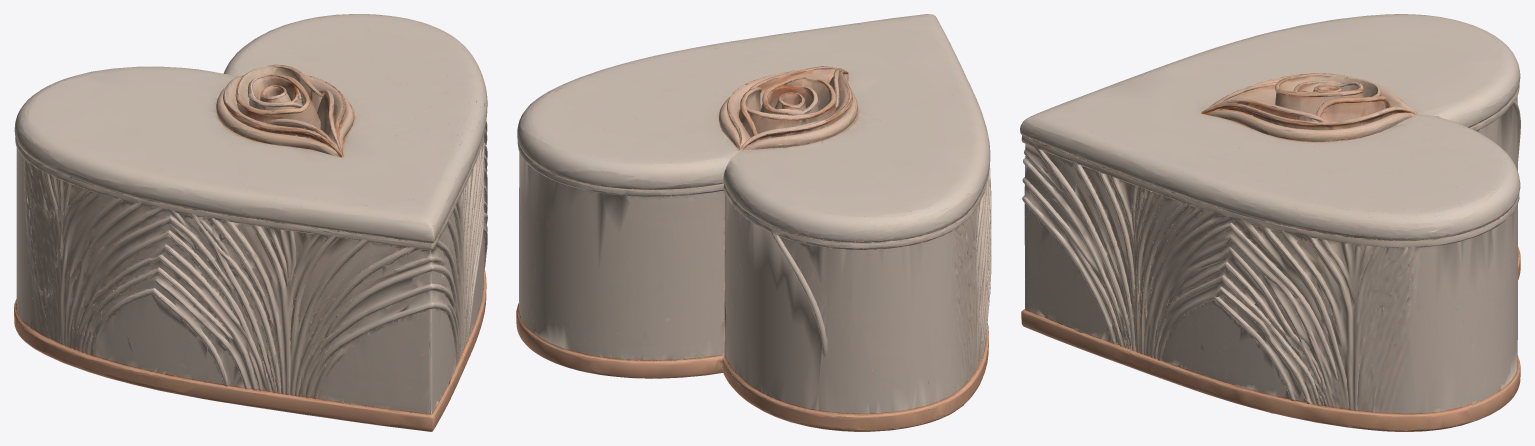
The model's file is cake-04-heart-art-deco.glb.
3 views of the same model, side by side, from view 1: azimuth 30°, elevation 25°; view 2: azimuth 150°, elevation 25°; view 3: azimuth 270°, elevation 25° (orthographic).
Visible parts, largest first — view 1: cake-04; view 2: cake-04; view 3: cake-04.
Boxes of the visible parts, x1=… form: cake-04: x1=14, y1=14, x2=487, y2=431; cake-04: x1=516, y1=14, x2=991, y2=431; cake-04: x1=1020, y1=14, x2=1520, y2=431.
Bounding box in the file's own units: 2 × 1.06 × 2.
Materials: 1 (1 with a texture image).
